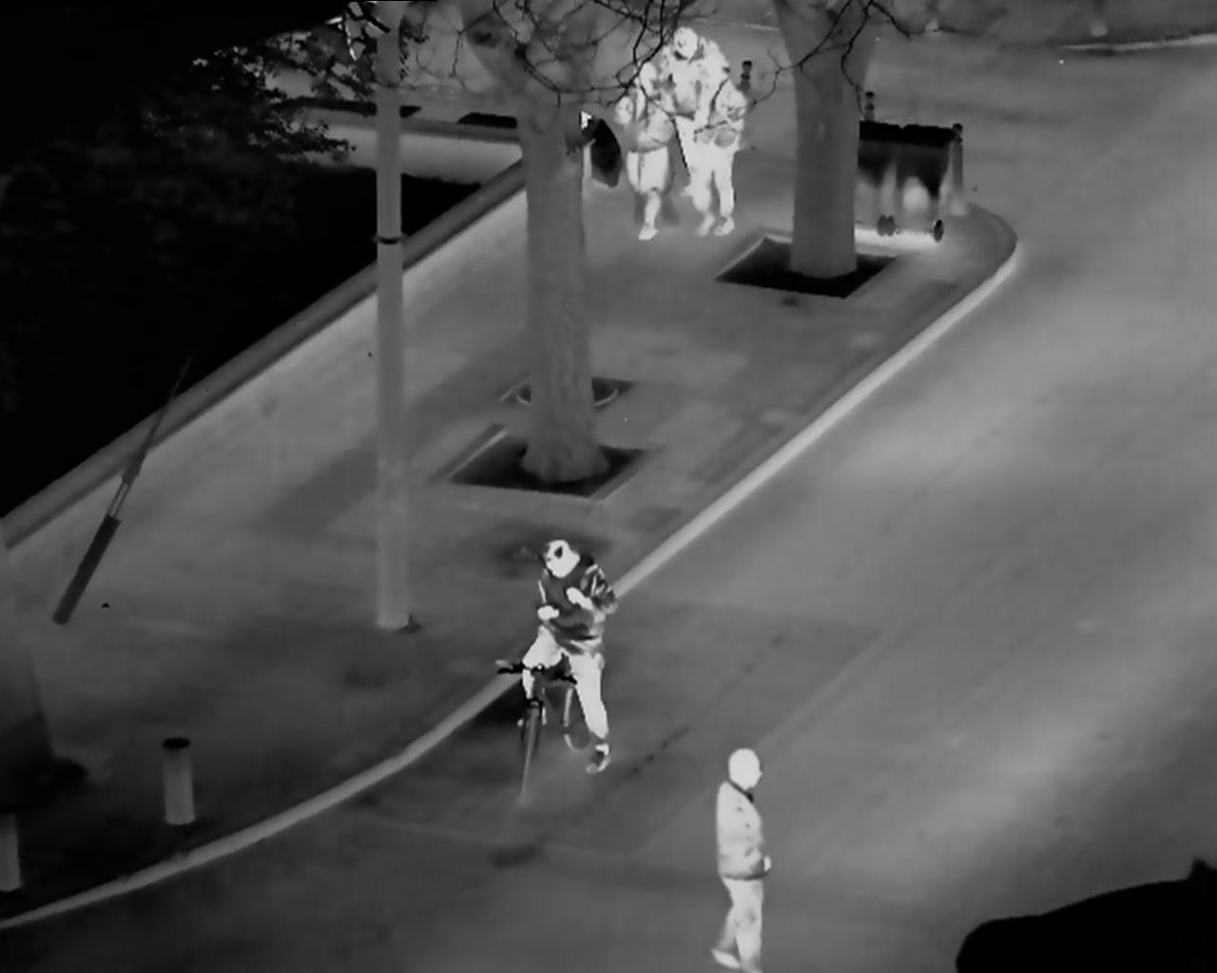person: (502, 530, 630, 791), (704, 728, 776, 973), (680, 51, 746, 236), (618, 52, 677, 254), (662, 18, 724, 206)
